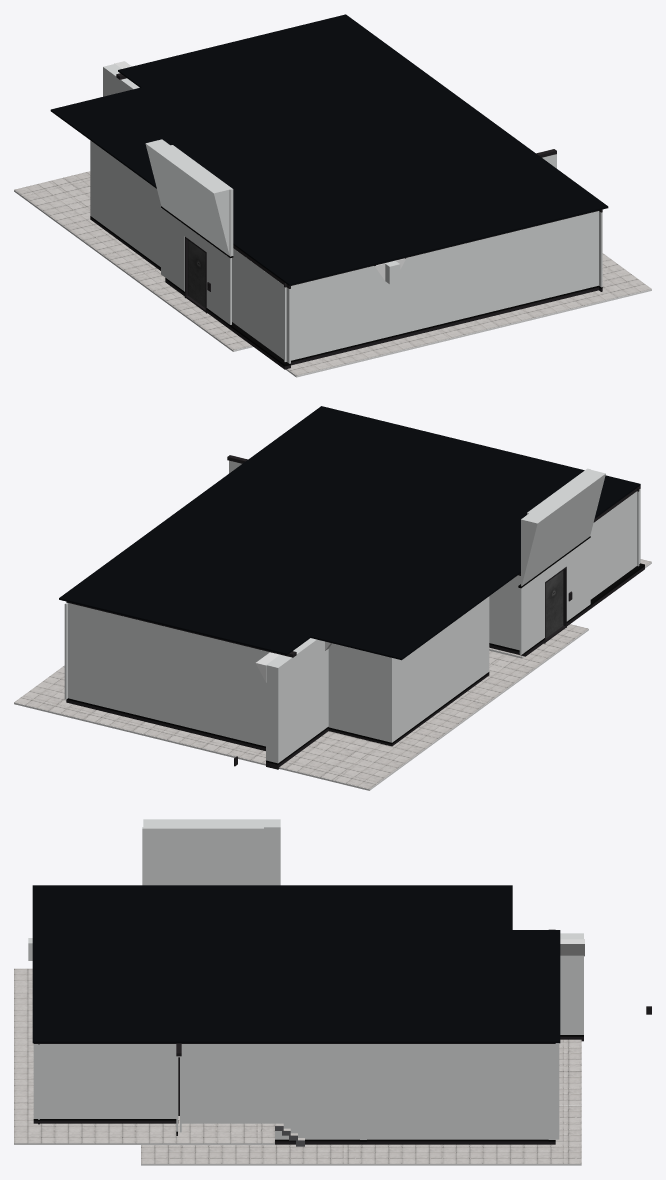
Rendered from SCP 205 Containment Chamber.obj.
The picture shows the model from 3 angles, top to bottom: view 1: azimuth 30°, elevation 25°; view 2: azimuth 150°, elevation 25°; view 3: azimuth 270°, elevation 25°; orthographic projection.
Visible parts, largest first — view 1: Part580, Part598, Part581, Part186, Wedge1, Part588, Part590, Part585, Part599, Door9, Part423, Part55 (+7 smaller); view 2: Part580, Part581, Part524, Part186, Part531, Part183, Wedge1, Part588, Part525, Part147, Part585, Part590 (+13 smaller); view 3: Part580, Part165, Part581, Part457, Part75, Wedge1, Part531, Part166, Part167, Part469, Part485, Part55 (+16 smaller).
Boxes of the visible parts, x1,y1,x2,y2 form: Part580: (118,14,608,263); Part598: (284,211,598,361); Part581: (50,87,380,285); Part186: (91,141,161,266); Wedge1: (145,139,229,255); Part588: (232,248,290,363); Part590: (206,241,231,324); Part585: (161,208,184,291); Part599: (291,287,598,365); Door9: (188,240,205,307); Part423: (23,187,77,210); Part55: (602,274,651,297); Part580: (59,406,548,655); Part581: (310,461,640,660); Part524: (68,603,269,728); Part186: (393,596,489,741); Part531: (266,638,328,763); Part183: (328,643,392,742); Wedge1: (521,469,605,586); Part588: (590,489,640,599); Part525: (68,681,265,746); Part147: (489,575,519,650); Part585: (519,571,544,654); Part590: (566,538,590,621); Part580: (32,930,560,1043); Part165: (181,1043,559,1139); Part581: (32,885,512,929); Part457: (33,1044,178,1118); Part75: (142,827,263,885); Wedge1: (143,819,280,885); Part531: (560,933,583,1034); Part166: (275,1141,548,1144); Part167: (275,1139,548,1141); Part469: (216,1126,257,1143); Part485: (135,1126,176,1143); Part55: (14,1126,54,1143).
Size of the model in its own units: 49.21 by 21.61 by 72.37.
20 materials, 6 textured.
